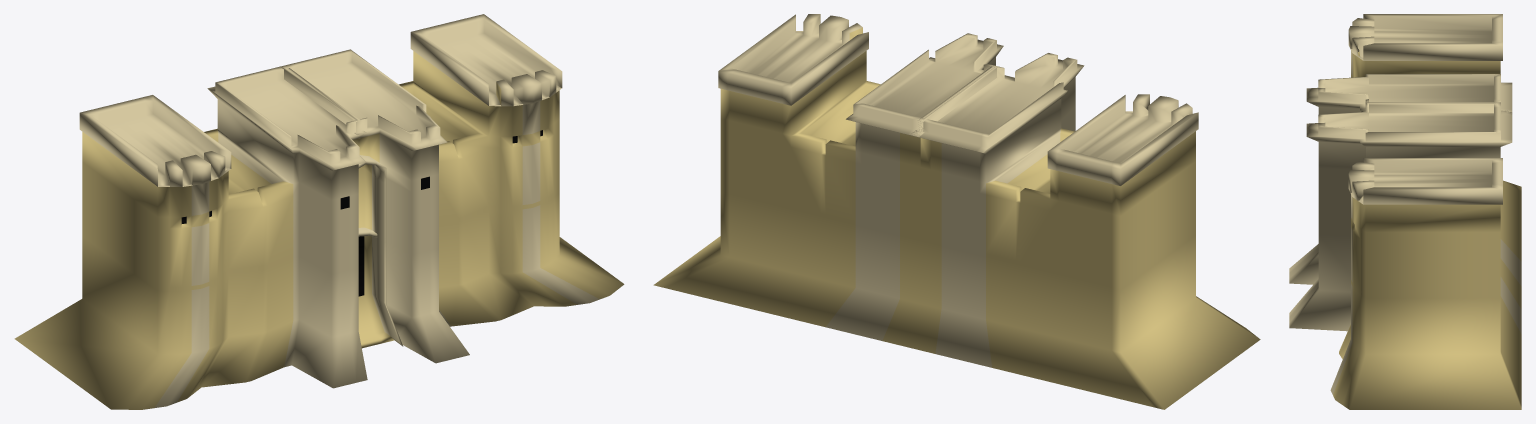
Rendered from castle 1.fbx.
3 views of the same model, side by side, from view 1: azimuth 30°, elevation 25°; view 2: azimuth 150°, elevation 25°; view 3: azimuth 270°, elevation 25° (orthographic). The views are drawn at different scales.
Parts seen in each view (by area): view 1: Cube; view 2: Cube; view 3: Cube.
Boxes of the visible parts, x1,y1,x2,y2 form: Cube: [14, 14, 624, 409]; Cube: [653, 14, 1260, 409]; Cube: [1289, 14, 1521, 409].
Size of the model in its own units: 784 by 322 by 345.
